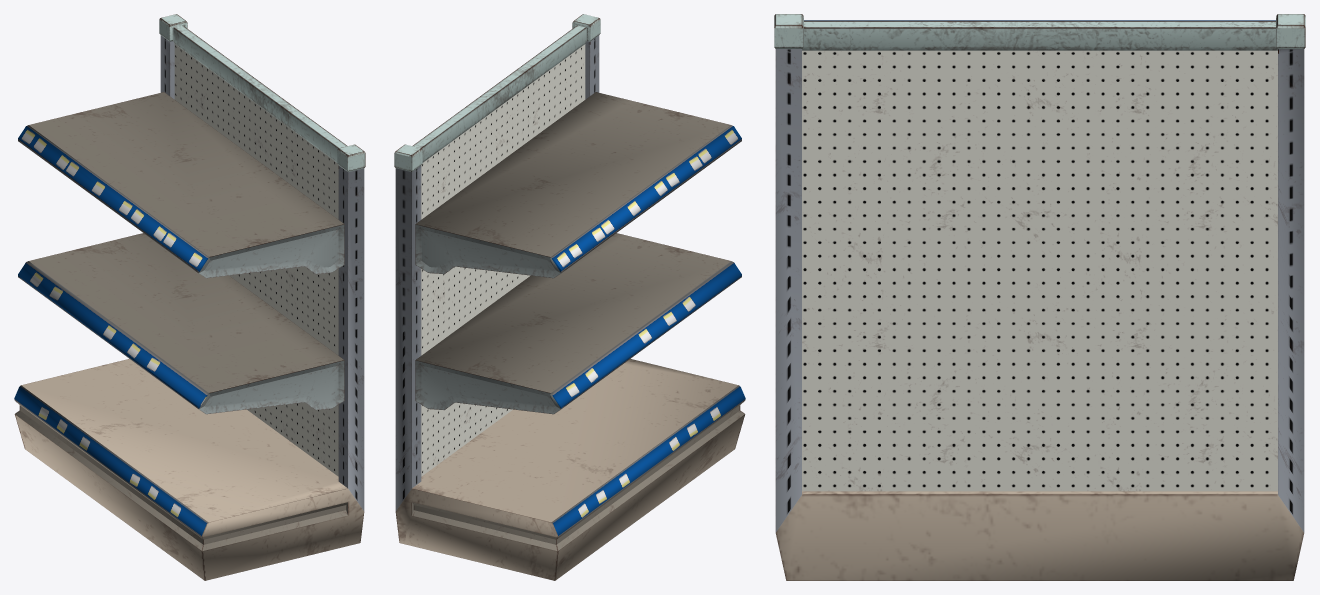
The model's file is GondolaPequenia.fbx.
3 renders of one model, left to right at view 1: azimuth 30°, elevation 25°; view 2: azimuth 150°, elevation 25°; view 3: azimuth 270°, elevation 25°, orthographic. The views are drawn at different scales.
Parts seen in each view (by area): view 1: shelf_piece_exp003; view 2: shelf_piece_exp003; view 3: shelf_piece_exp003.
Boxes of the visible parts, box(x1,y1,x2,y2) form: shelf_piece_exp003: box(14, 14, 365, 580); shelf_piece_exp003: box(394, 14, 745, 580); shelf_piece_exp003: box(774, 14, 1305, 580).
Bounding box in the file's own units: 47.77 × 110 × 95.49.
Materials: 2 (2 with a texture image).
